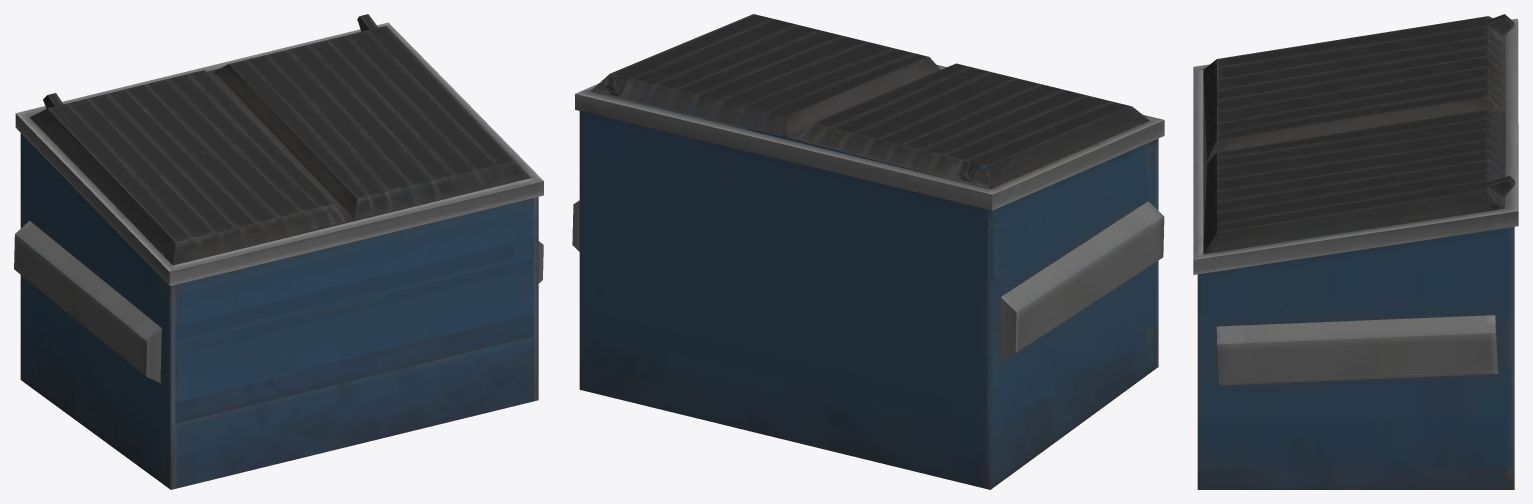
The model's file is Dumpster_02.fbx.
3 views of the same model, side by side, from view 1: azimuth 30°, elevation 25°; view 2: azimuth 150°, elevation 25°; view 3: azimuth 270°, elevation 25° (orthographic). The views are drawn at different scales.
Visible parts, largest first — view 1: SM_Dumpster_02; view 2: SM_Dumpster_02; view 3: SM_Dumpster_02.
Part boxes in pixels (<box>): SM_Dumpster_02: <box>14,14,543,489</box>; SM_Dumpster_02: <box>572,14,1164,489</box>; SM_Dumpster_02: <box>1193,14,1518,489</box>.
Bounding box in the file's own units: 1.71 × 1.17 × 1.15.
